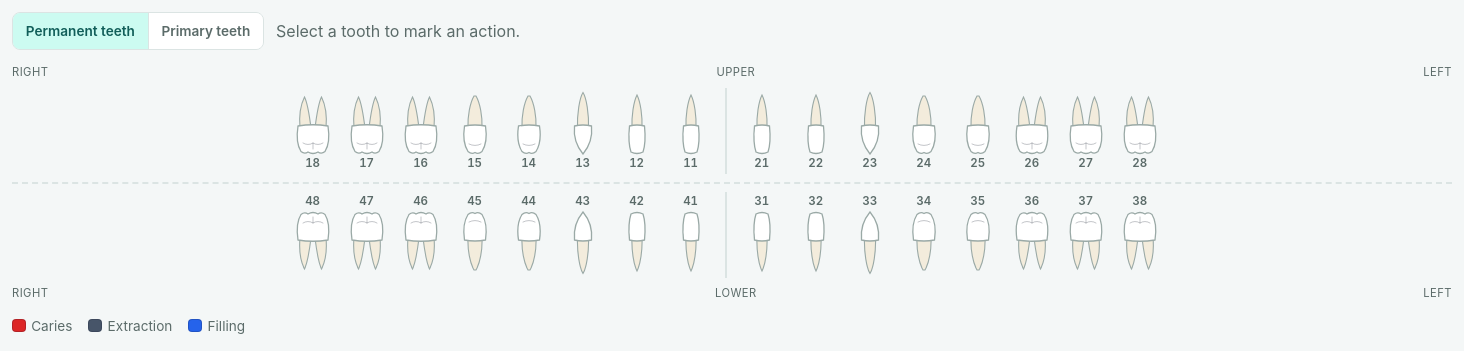
Test: dental chart (CHART-001..004) › shows all 32 permanent teeth and switches to the 20 primary teeth
The width and height of the screenshot is (1464, 351).
Click the button "Primary teeth".
click(205, 31)  # box top-left (148, 13), bottom-right (263, 49)
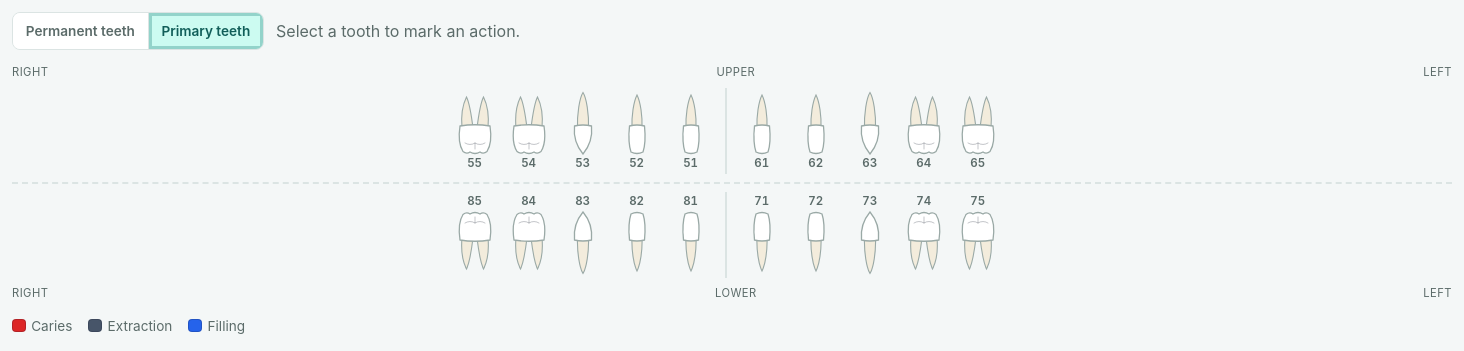
Expected: the button named "Tooth 55: no actions" is shown, top-left (450, 88), bottom-right (500, 174)
